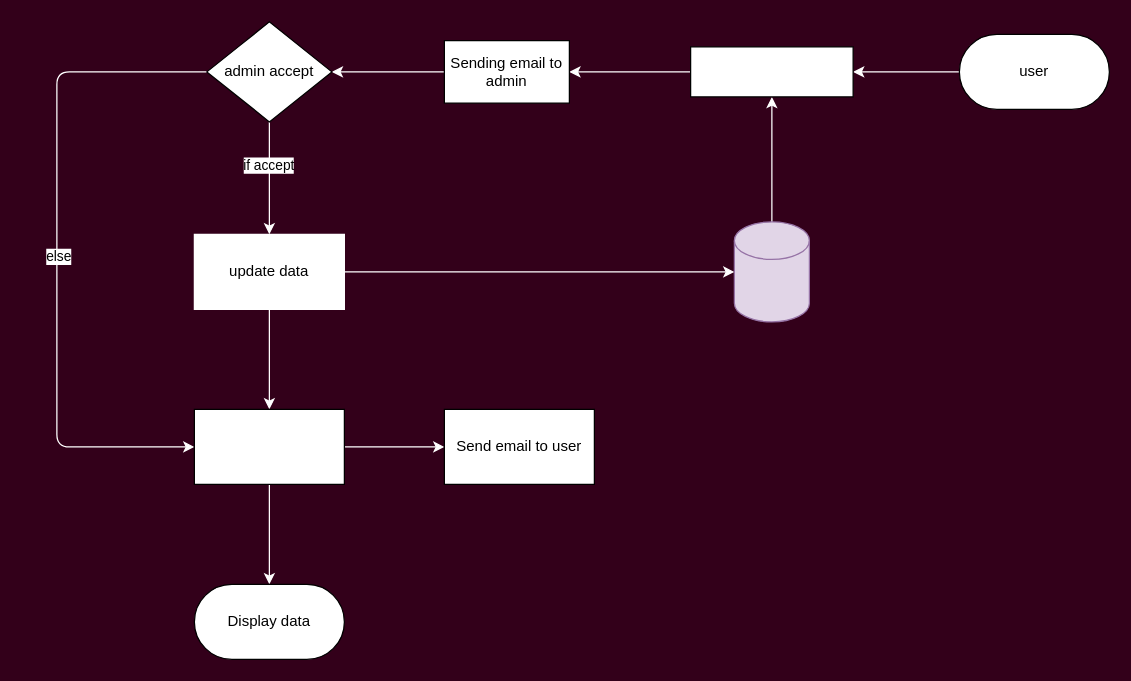
This 1131x681 diagram has some shape labels left out. The centre of each missing label's shape, as x and y in pixels:
"Data base" goes at point (771, 271).
"Edit Data" goes at point (771, 71).
"push notification" goes at point (268, 446).
